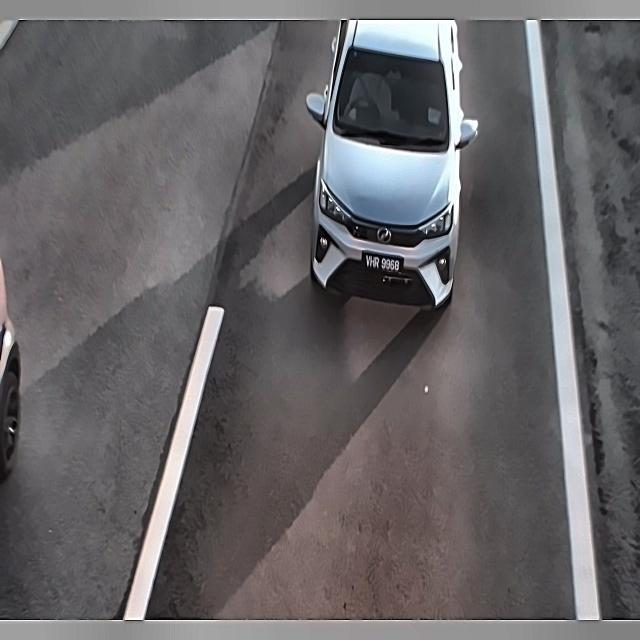car: (357, 243, 406, 281)
